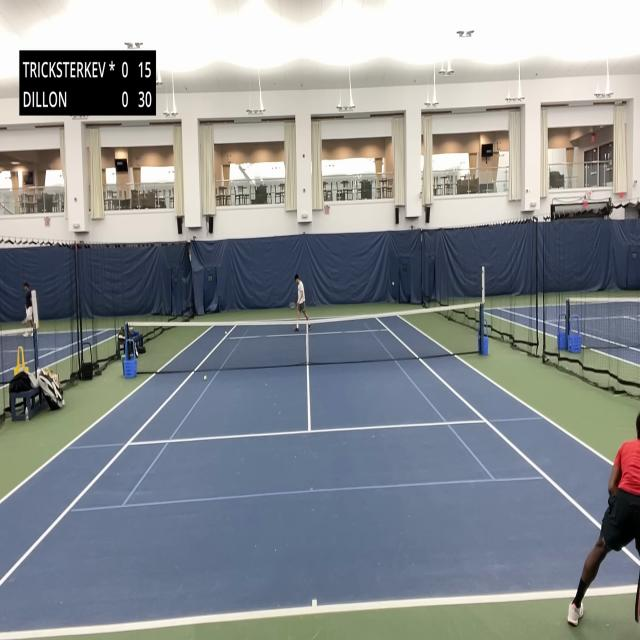ball: (203, 374, 207, 381), (392, 281, 394, 287), (225, 330, 227, 336)
